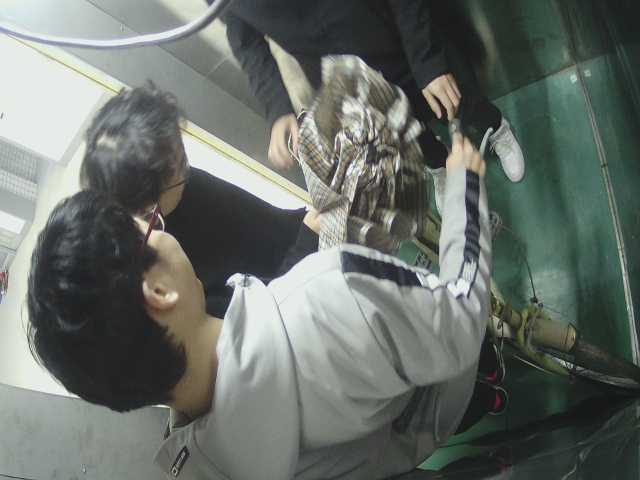bicycle: (471, 242, 634, 402)
person: (34, 206, 512, 470), (203, 1, 526, 198), (85, 96, 310, 282)
